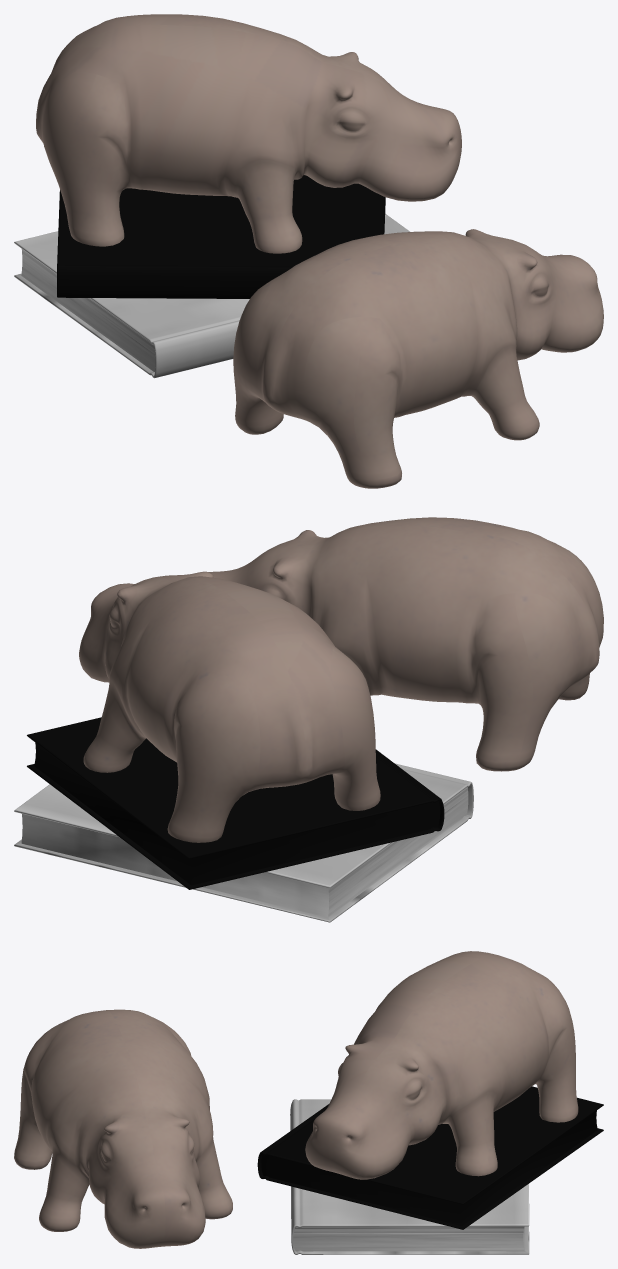
Rendered from pigges2.glb.
3 views of the same model, one above another, from view 1: azimuth 30°, elevation 25°; view 2: azimuth 150°, elevation 25°; view 3: azimuth 270°, elevation 25° (orthographic). The views are drawn at different scales.
Visible parts, largest first — view 1: Hippopotamus.001, Hippopotamus.002, 22 Books 1.002, 22 Books 0.002; view 2: Hippopotamus.001, Hippopotamus.002, 22 Books 1.002, 22 Books 0.002; view 3: Hippopotamus.001, Hippopotamus.002, 22 Books 1.002, 22 Books 0.002.
Part boxes in pixels (x1,y1,x2,y2): Hippopotamus.001: (36,14,461,253); Hippopotamus.002: (233,229,603,488); 22 Books 1.002: (57,175,385,298); 22 Books 0.002: (14,214,409,378); Hippopotamus.001: (79,571,380,842); Hippopotamus.002: (208,517,603,771); 22 Books 1.002: (27,717,444,889); 22 Books 0.002: (14,763,473,922); Hippopotamus.001: (305,951,578,1179); Hippopotamus.002: (14,1009,232,1248); 22 Books 1.002: (257,1086,603,1229); 22 Books 0.002: (290,1099,529,1254).
Bounding box in the file's own units: 0.323 × 0.202 × 0.4976.
3 materials, 3 textured.
